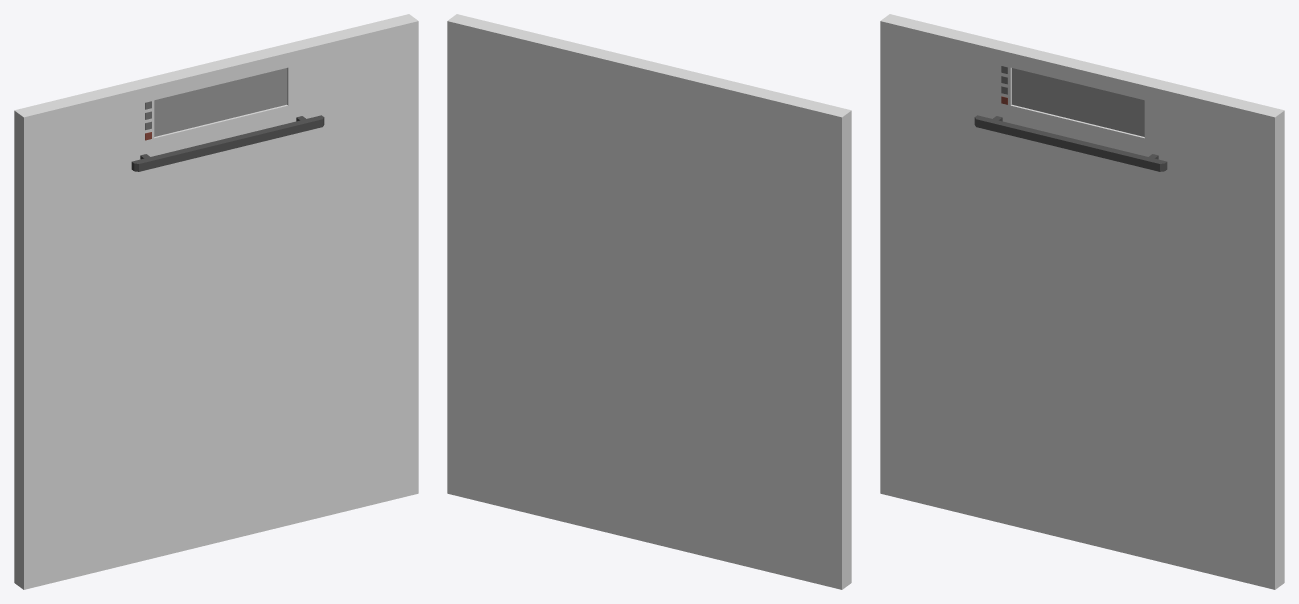
The model's file is Dishwasher2_02.fbx.
3 renders of one model, left to right at view 1: azimuth 30°, elevation 25°; view 2: azimuth 150°, elevation 25°; view 3: azimuth 330°, elevation 25°, orthographic.
Parts seen in each view (by area): view 1: Dishwasher2_02; view 2: Dishwasher2_02; view 3: Dishwasher2_02.
Boxes of the visible parts, x1=… form: Dishwasher2_02: x1=14, y1=14, x2=418, y2=589; Dishwasher2_02: x1=447, y1=14, x2=851, y2=589; Dishwasher2_02: x1=880, y1=14, x2=1284, y2=589.
Size of the model in its own units: 59.2 by 67.69 by 5.01.
